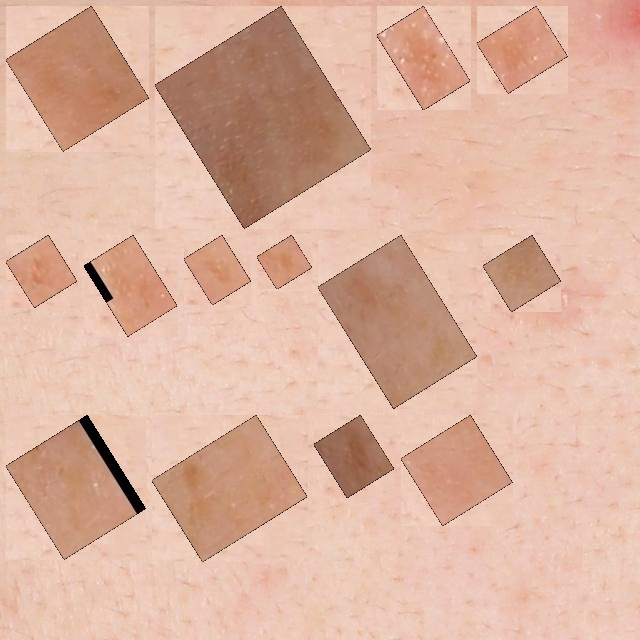melasma: (166, 17, 360, 217), (329, 246, 466, 397), (163, 426, 296, 551), (17, 17, 138, 140), (17, 426, 135, 548), (412, 426, 501, 514), (388, 17, 459, 99), (95, 246, 166, 325), (488, 17, 557, 82), (325, 426, 383, 487), (494, 246, 550, 301), (17, 246, 66, 296), (195, 246, 240, 294), (268, 246, 301, 278)
